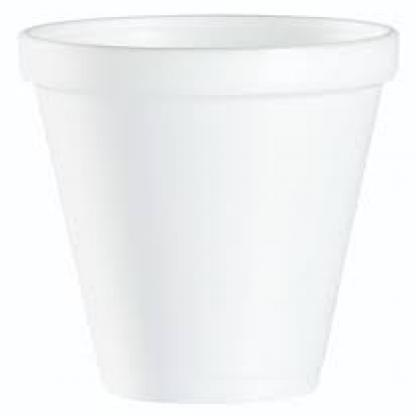paper: (16, 14, 398, 404)
